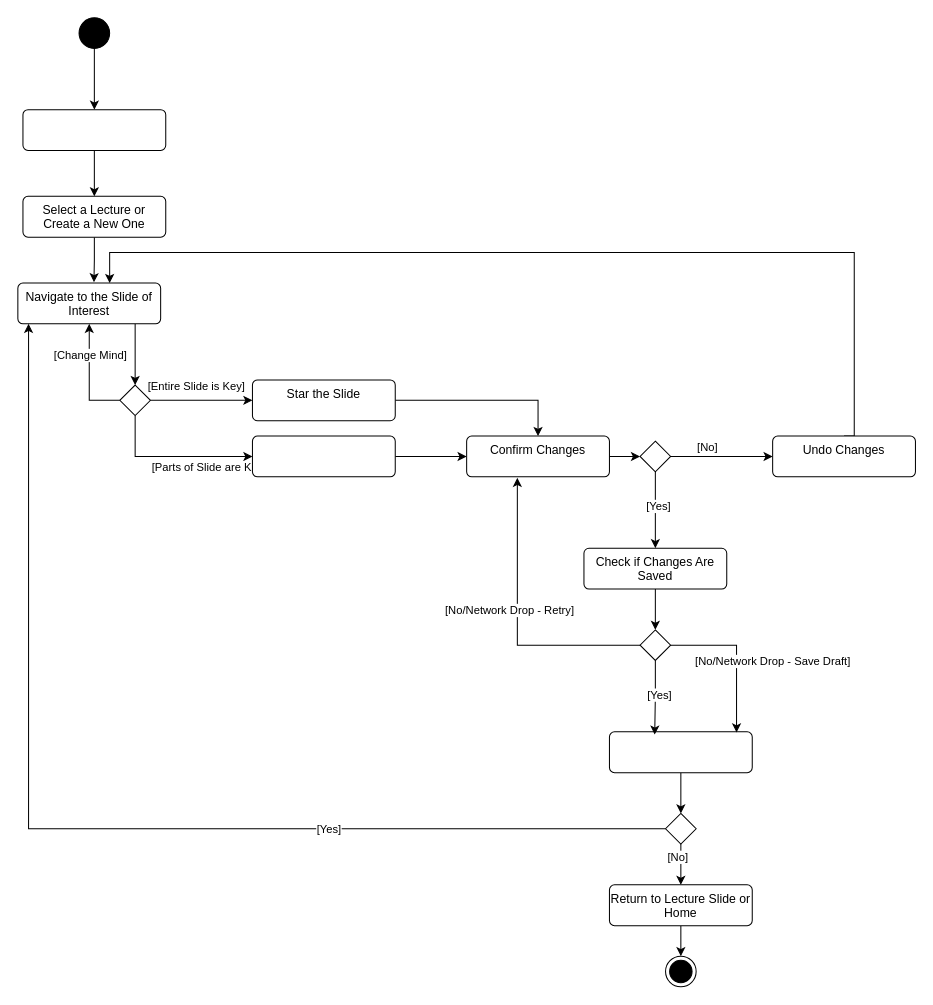
This 933x1005 diagram has some shape labels left out. The shapes that lost their labels are listed below. From the top down, each one's box as (x1, y1, x2, y2) in pixels, then its label:
(22, 109, 166, 150): Open the Slide Machine
(251, 435, 395, 477): Highlight the Key Parts on the Slide
(608, 731, 752, 773): Check if there are Other Slide of Interest
